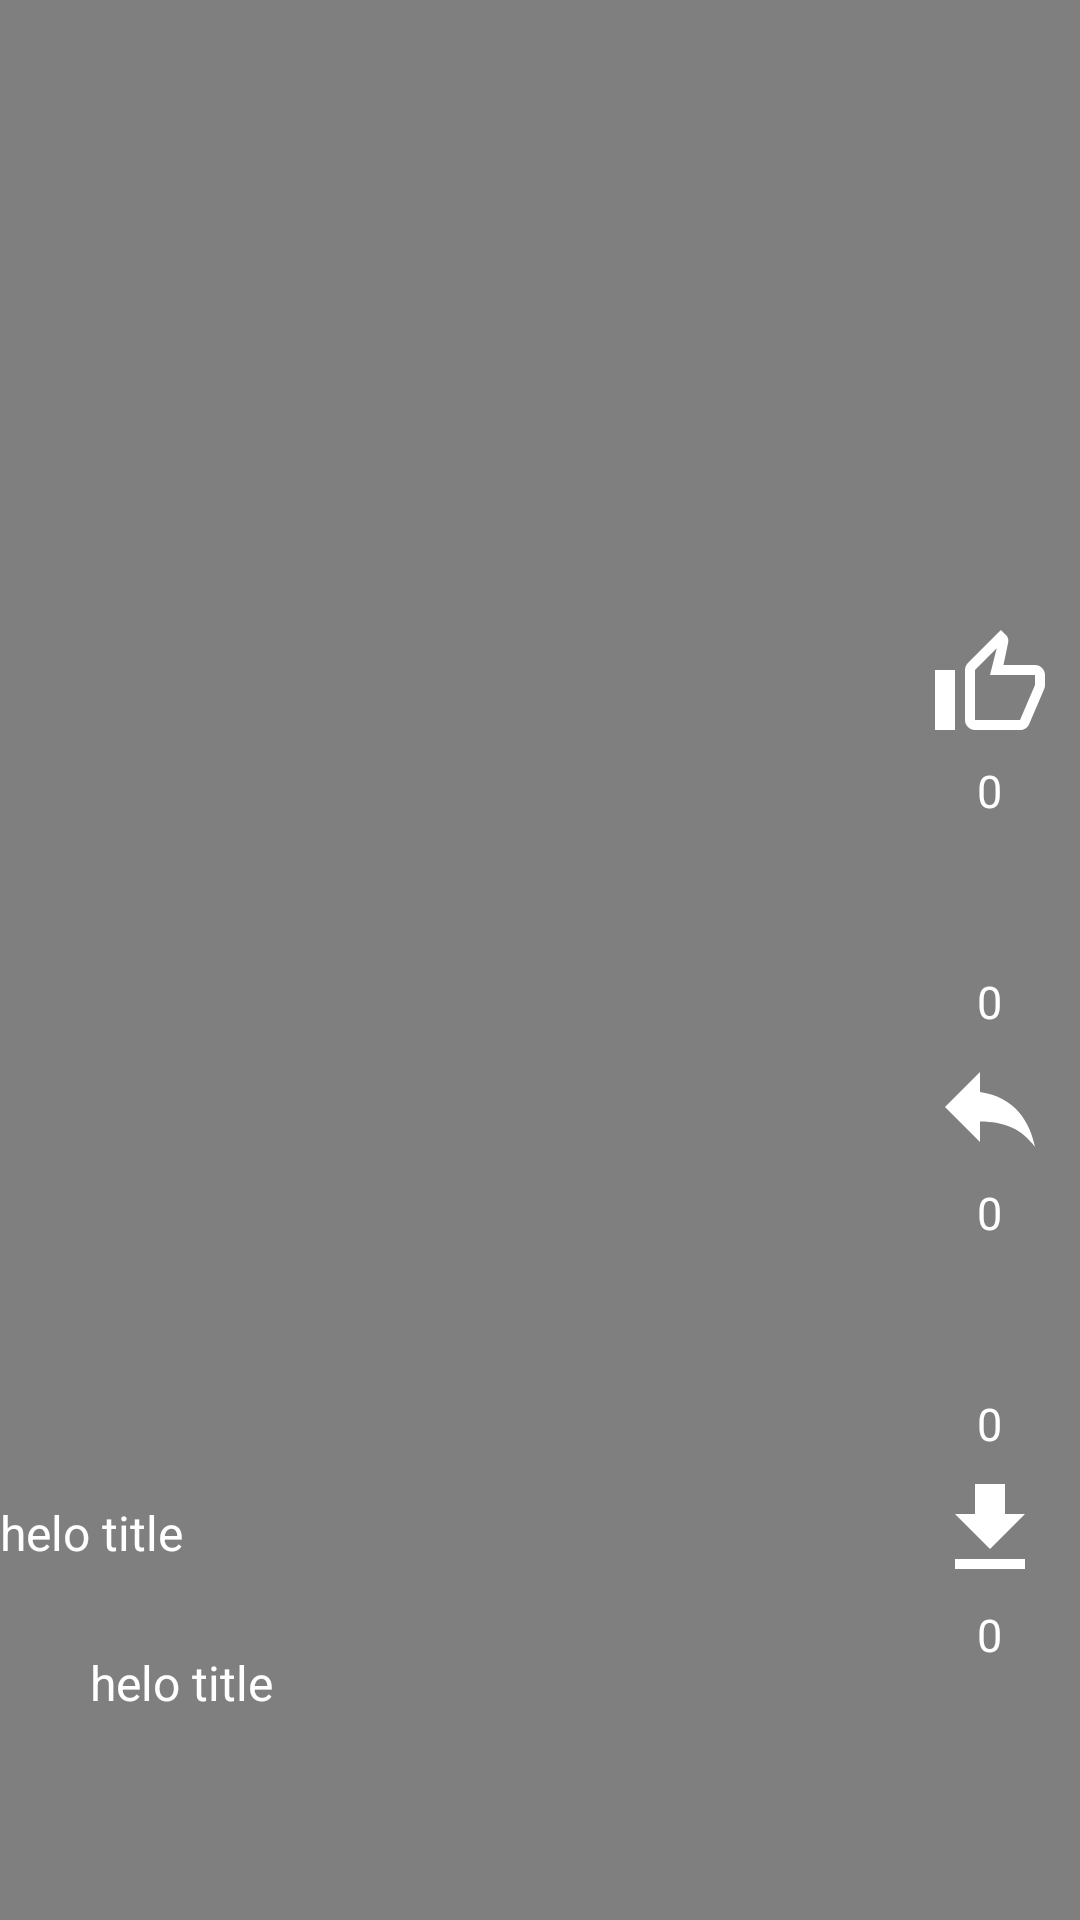

Icon bounding boxes for this 1080*1920 phone screenshot, format (x1, y1, x2, y2):
download: (955, 1484, 1025, 1569)
like: (935, 630, 1045, 730)
share: (945, 1072, 1035, 1147)
